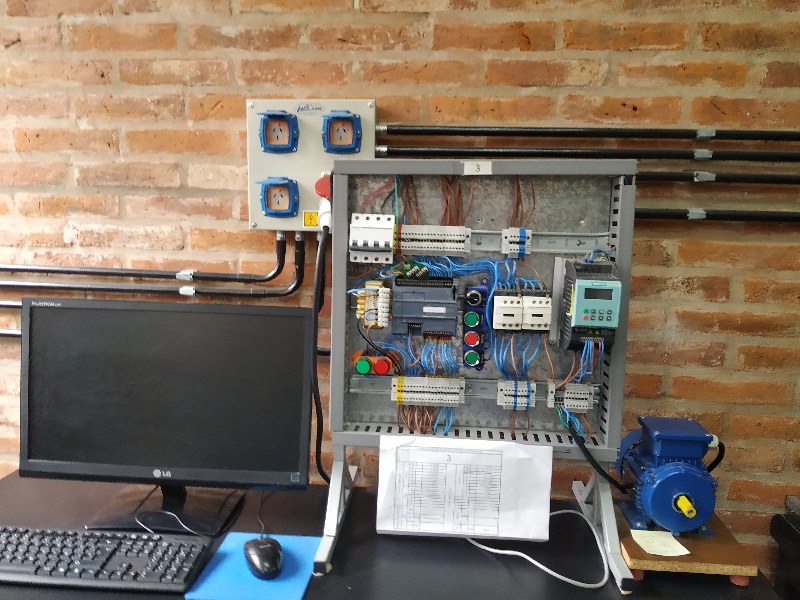Tablero 3: (343, 167, 627, 442)
